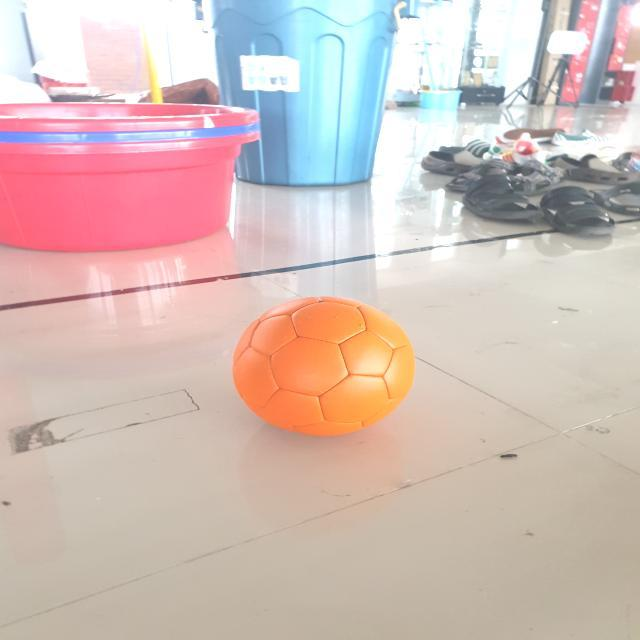bola: (227, 291, 422, 442)
